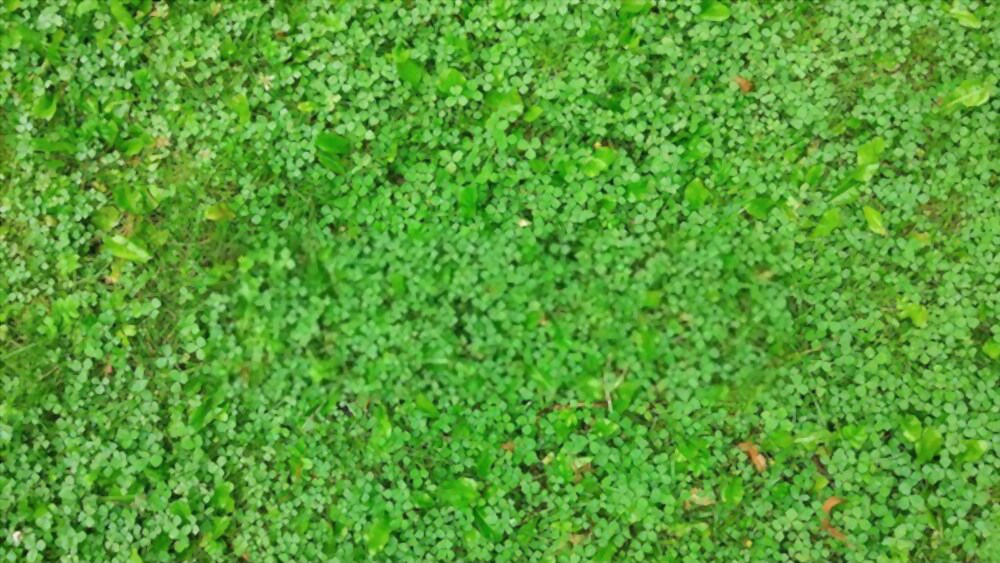clover: (3, 5, 991, 557)
